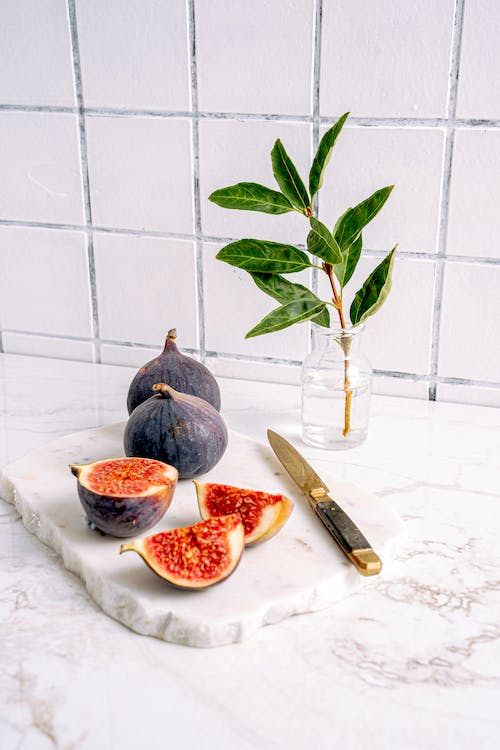knife: (265, 424, 383, 580)
